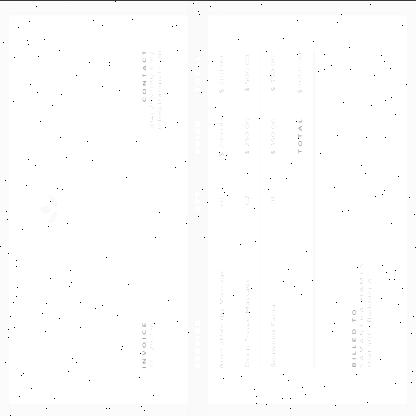Paragraph: (74, 146, 104, 270), (348, 260, 376, 370), (140, 49, 164, 130), (293, 48, 307, 157), (140, 317, 156, 370)
Table: (187, 49, 287, 373)
